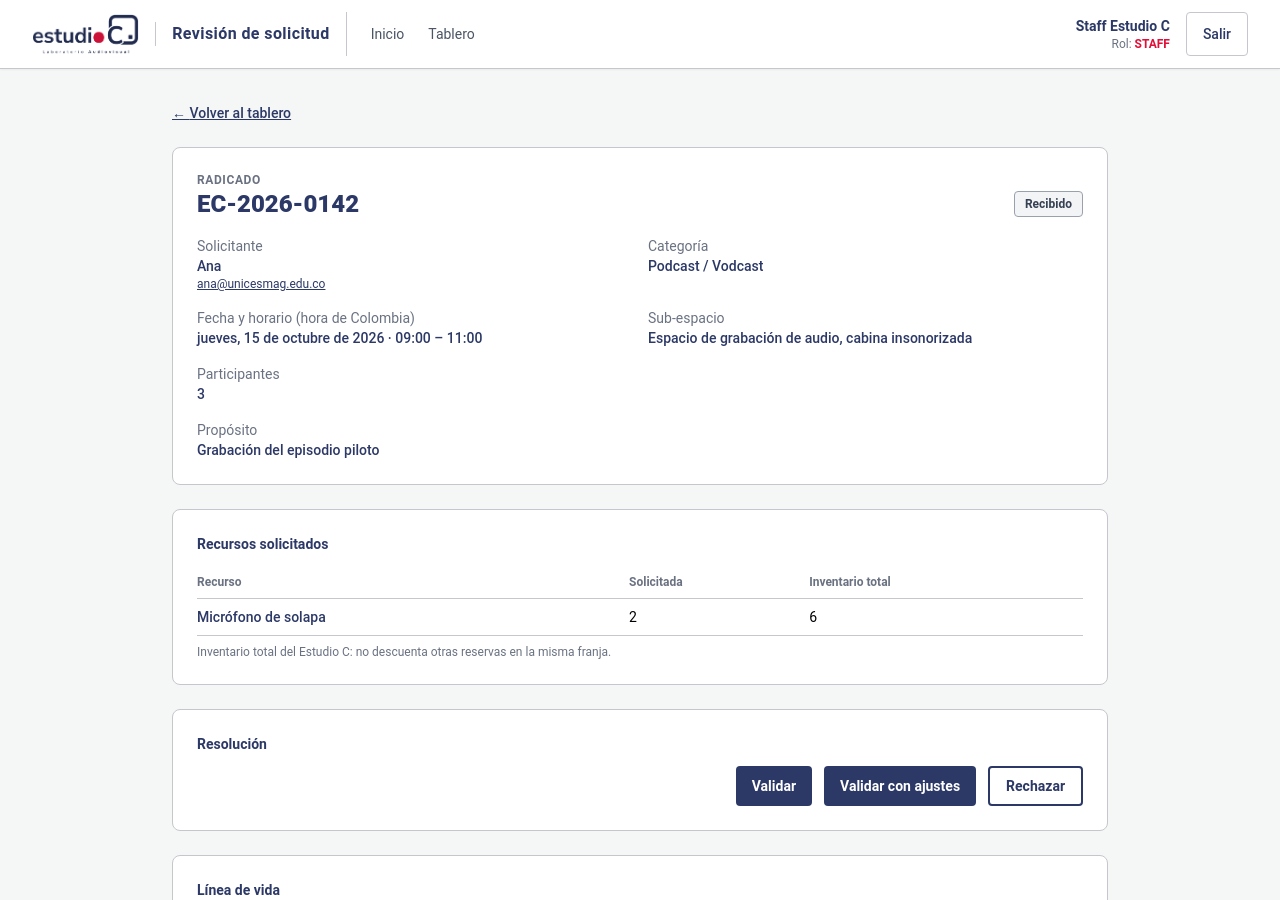
Test: DetalleStaff · acciones T1, T2, T4 y T9 (6.5.3) › validar (T1): envía el destino y, en PODCAST sin anexo, anexo_revisado null (E7); anuncia el éxito, recarga el detalle (DA2) y deja el foco en el radicado
The width and height of the screenshot is (1280, 900).
Click the button "Validar" at (774, 786), box [736, 766, 812, 806]
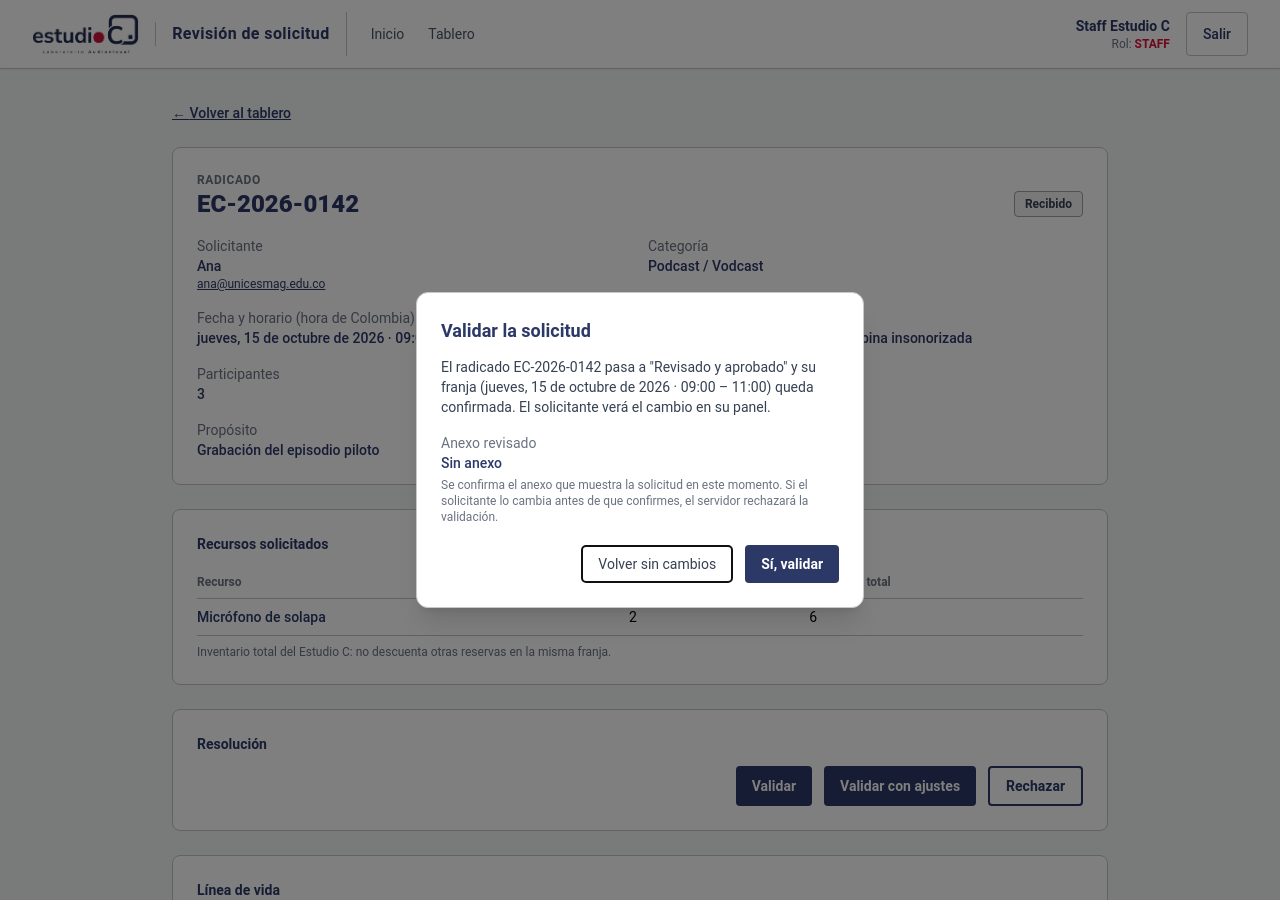
Click the button "Sí, validar" at (792, 564), box [745, 545, 839, 583]
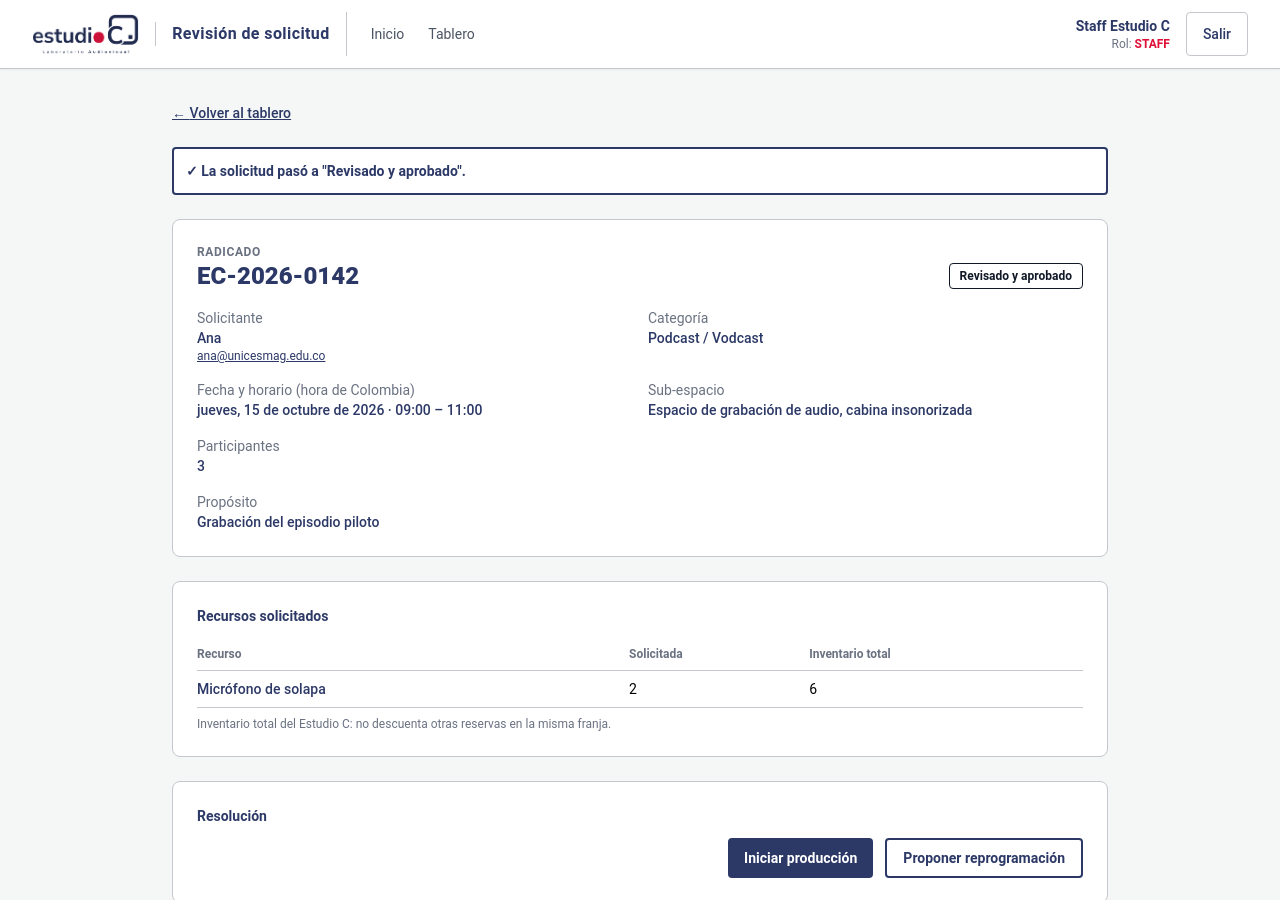
Result: the button "Iniciar producción" is enabled at [728, 838, 873, 878]
Result: the element showing "✓ La solicitud pasó a \"Revisado y aprobado\"." shows "La solicitud pasó a \"Revisado y aprobado\"." at [201, 163, 466, 179]
